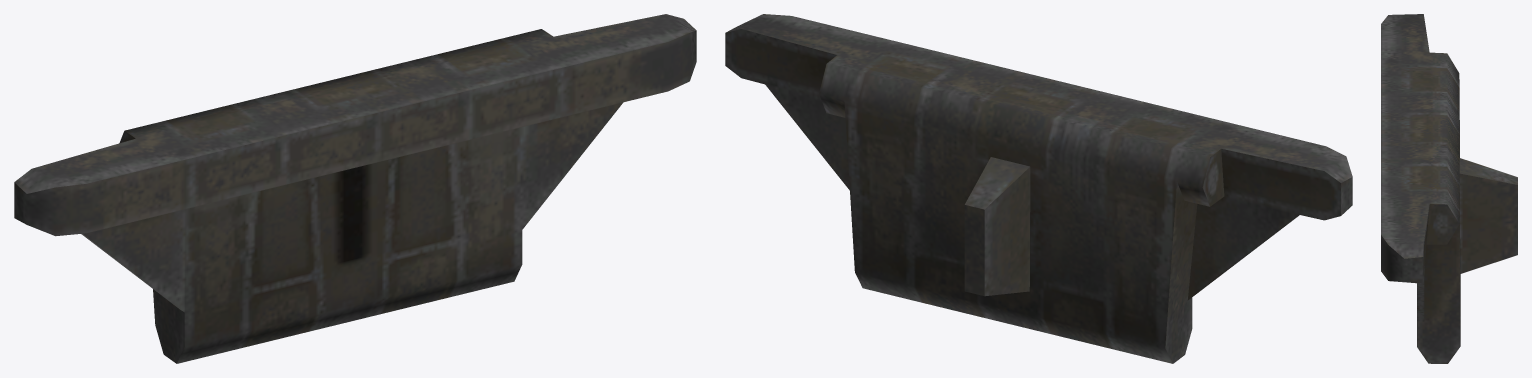
3 views of the same model, side by side, from view 1: azimuth 30°, elevation 25°; view 2: azimuth 150°, elevation 25°; view 3: azimuth 270°, elevation 25° (orthographic). The views are drawn at different scales.
Parts seen in each view (by area): view 1: set_0_group_0; view 2: set_0_group_0; view 3: set_0_group_0.
Boxes of the visible parts, x1,y1,x2,y2 form: set_0_group_0: (14, 14, 696, 363); set_0_group_0: (725, 14, 1352, 363); set_0_group_0: (1381, 14, 1517, 363).
Size of the model in its own units: 0.8099 by 0.2713 by 0.1927.
Materials: 1 (1 with a texture image).
